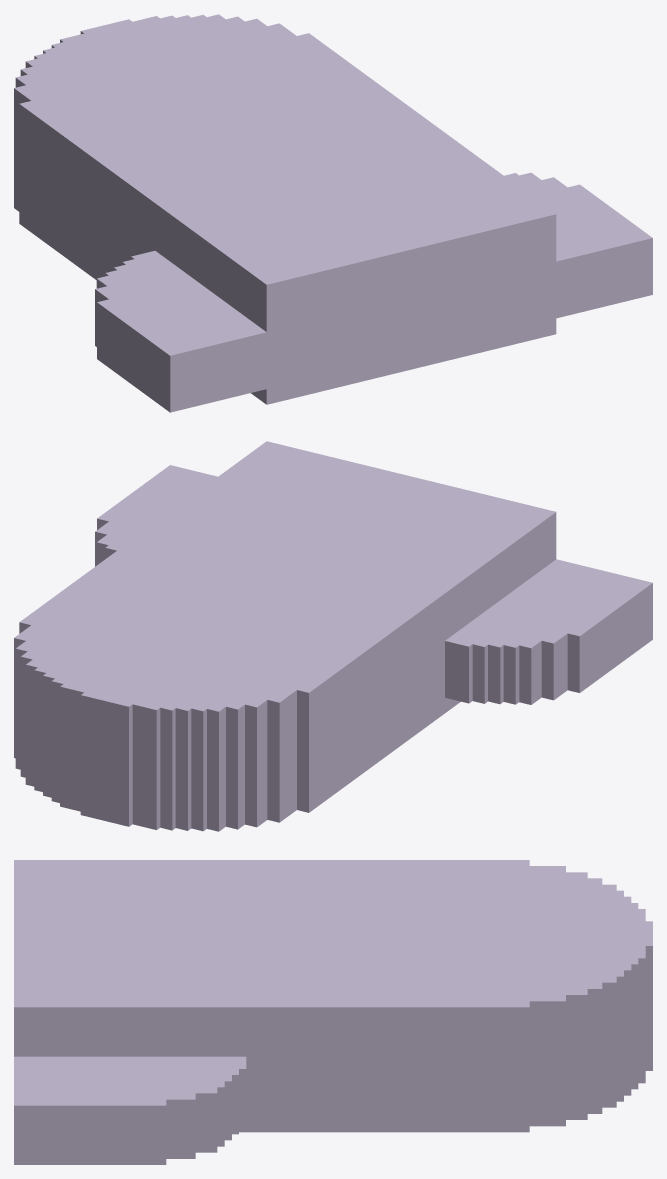
Rendered from au.s.lumen-r3.glb.
3 views of the same model, one above another, from view 1: azimuth 30°, elevation 25°; view 2: azimuth 150°, elevation 25°; view 3: azimuth 270°, elevation 25° (orthographic). The views are drawn at different scales.
Parts seen in each view (by area): view 1: ReviewedAuthoredCelestial; view 2: ReviewedAuthoredCelestial; view 3: ReviewedAuthoredCelestial.
Boxes of the visible parts, x1,y1,x2,y2 form: ReviewedAuthoredCelestial: [14, 14, 652, 412]; ReviewedAuthoredCelestial: [14, 441, 652, 831]; ReviewedAuthoredCelestial: [14, 860, 652, 1164].
Bounding box in the file's own units: 10 × 2.38 × 11.
